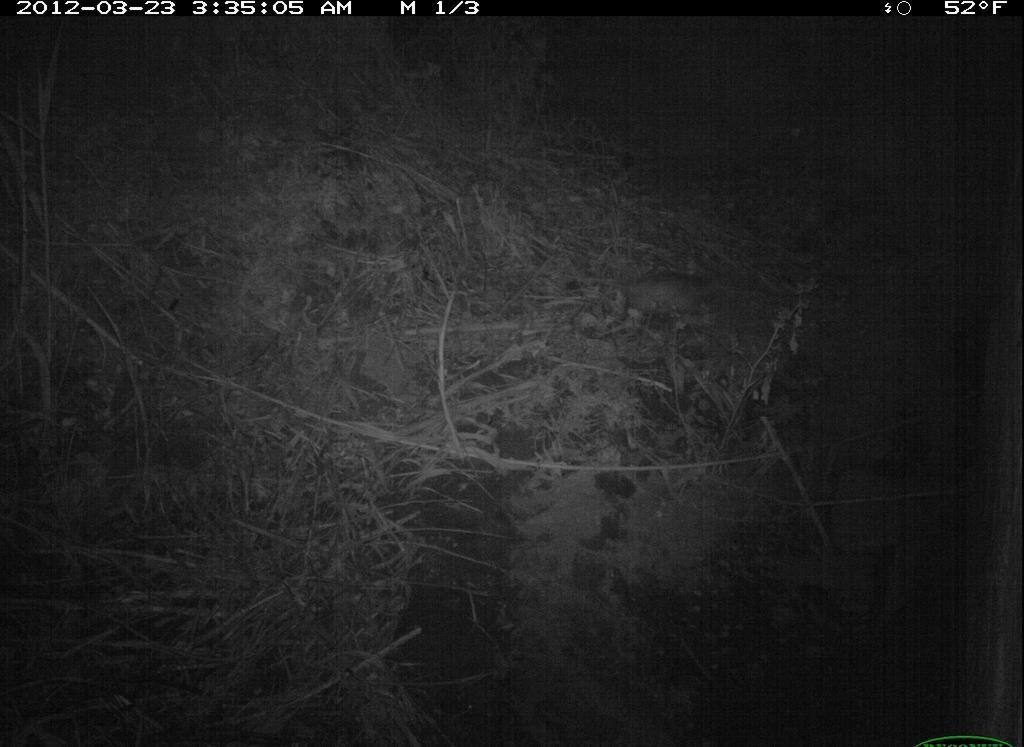opossum: (584, 265, 726, 336)
